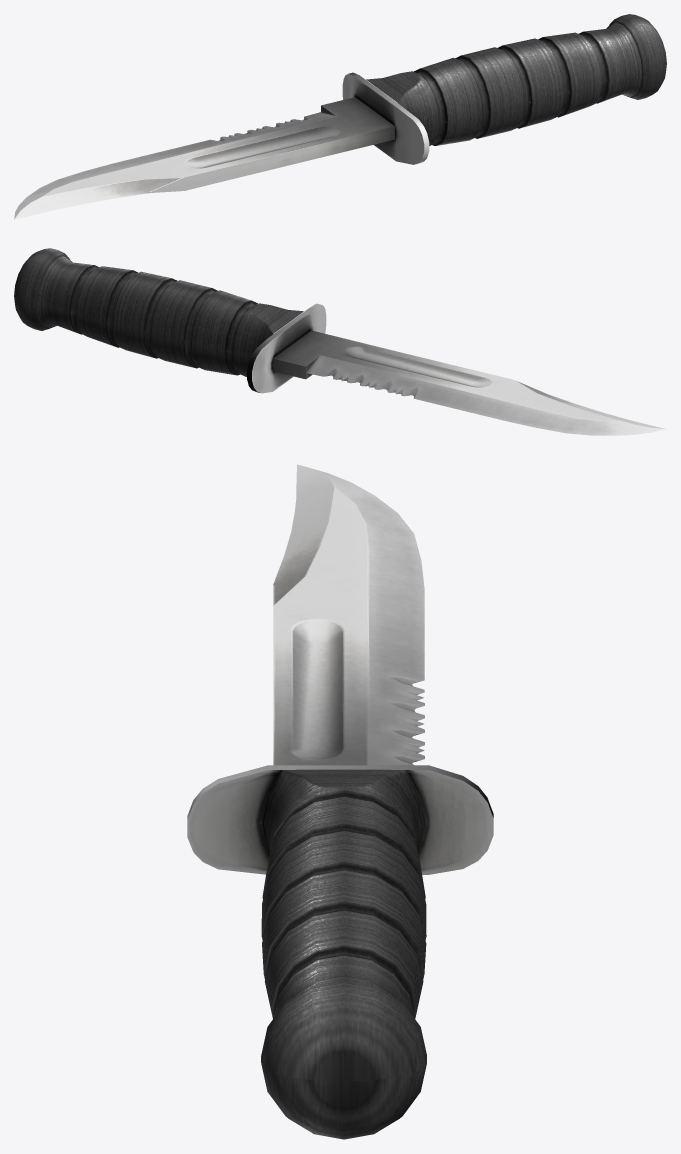
File: couteau.glb
The picture shows the model from 3 angles, top to bottom: view 1: azimuth 30°, elevation 25°; view 2: azimuth 150°, elevation 25°; view 3: azimuth 270°, elevation 25°; orthographic projection. The views are drawn at different scales.
Visible parts, largest first — view 1: knife; view 2: knife; view 3: knife.
Part boxes in pixels (box(x1,y1,x2,y2)): knife: box(14, 14, 666, 219); knife: box(14, 248, 666, 435); knife: box(187, 464, 493, 1139).
Size of the model in its own units: 2.93 by 0.3337 by 0.6156.
1 material, 1 textured.
